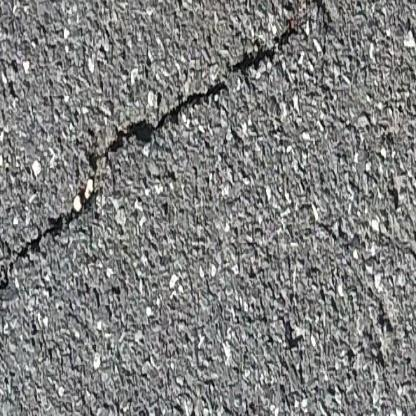Cracks: (0, 81, 163, 333)
